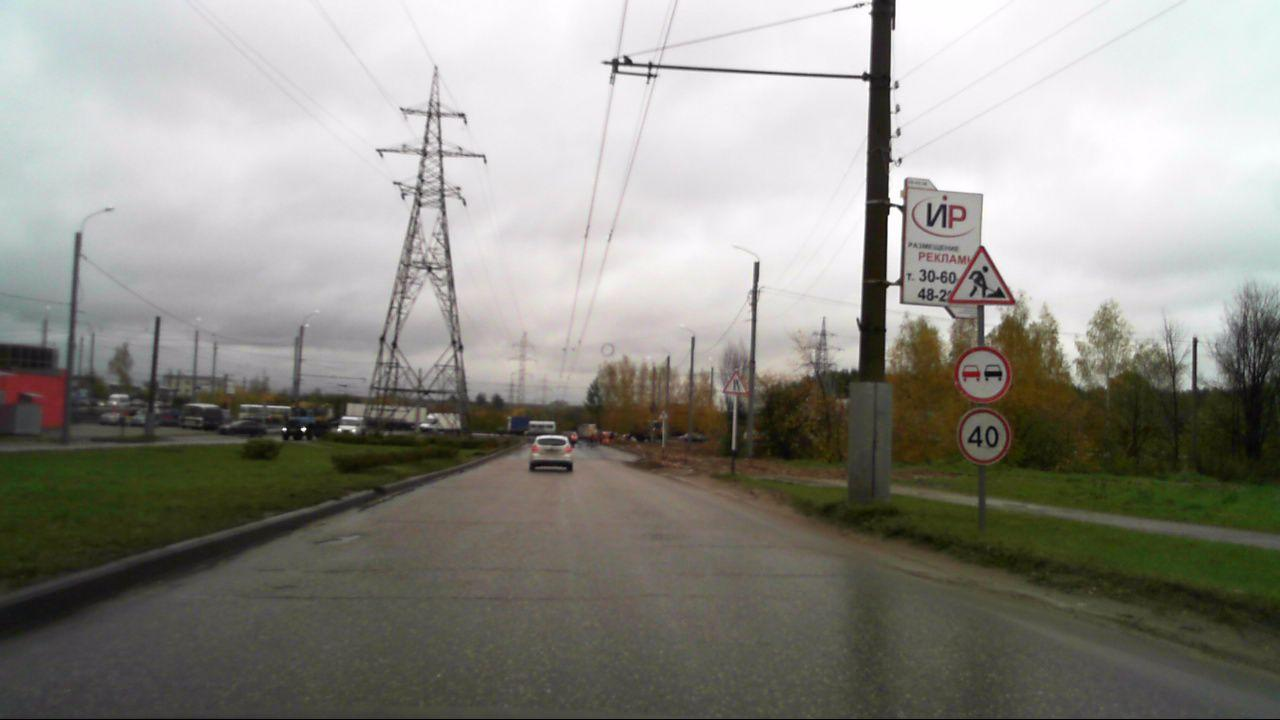1_20_2: (720, 370, 747, 394)
1_25: (946, 245, 1019, 307)
3_20: (952, 344, 1014, 404)
3_24: (957, 409, 1011, 466)
